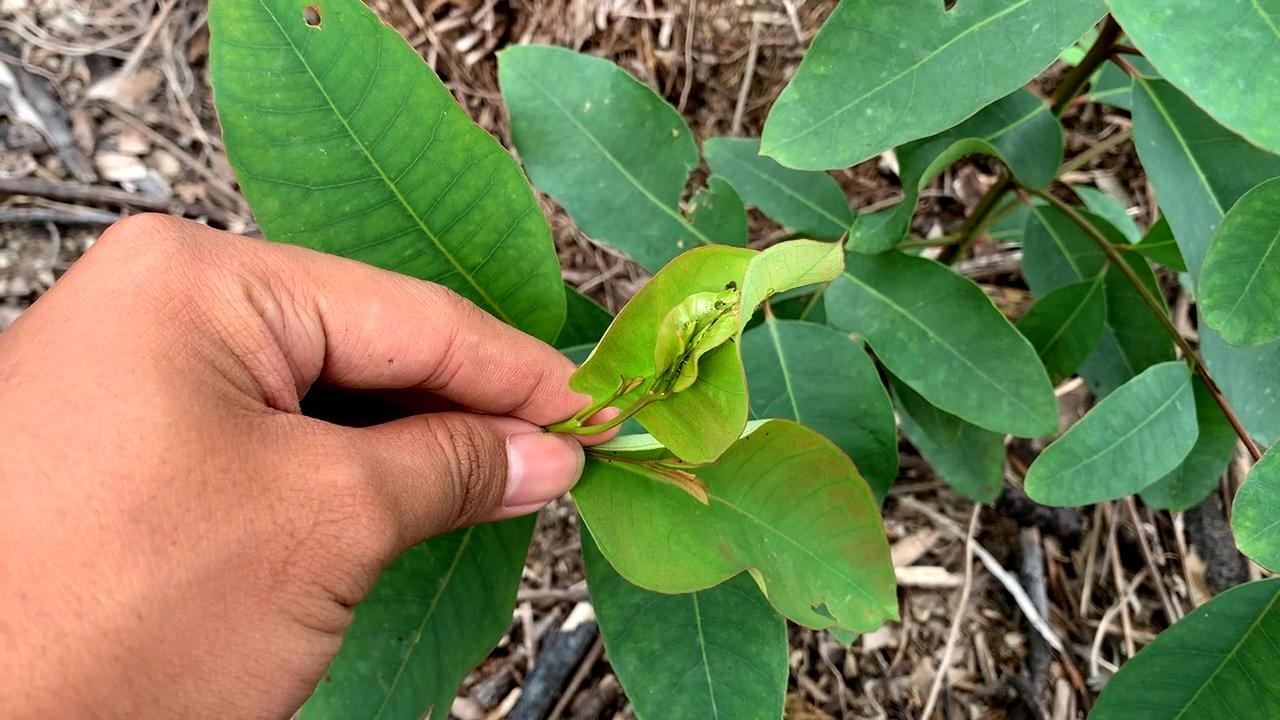Leaf Roller - Leaf: (563, 233, 846, 461)
